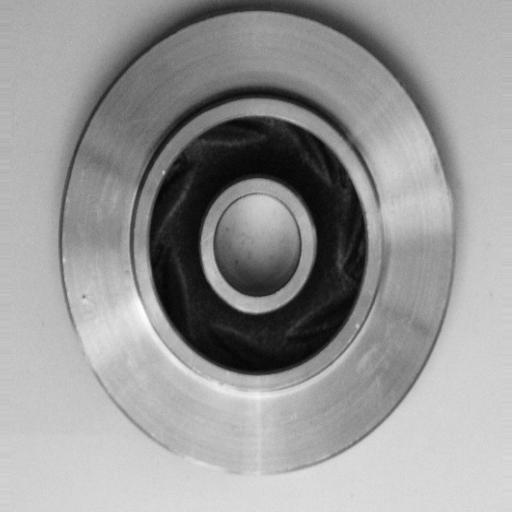scratch: (163, 434, 266, 490)
unpolished_casting: (57, 4, 459, 480)
